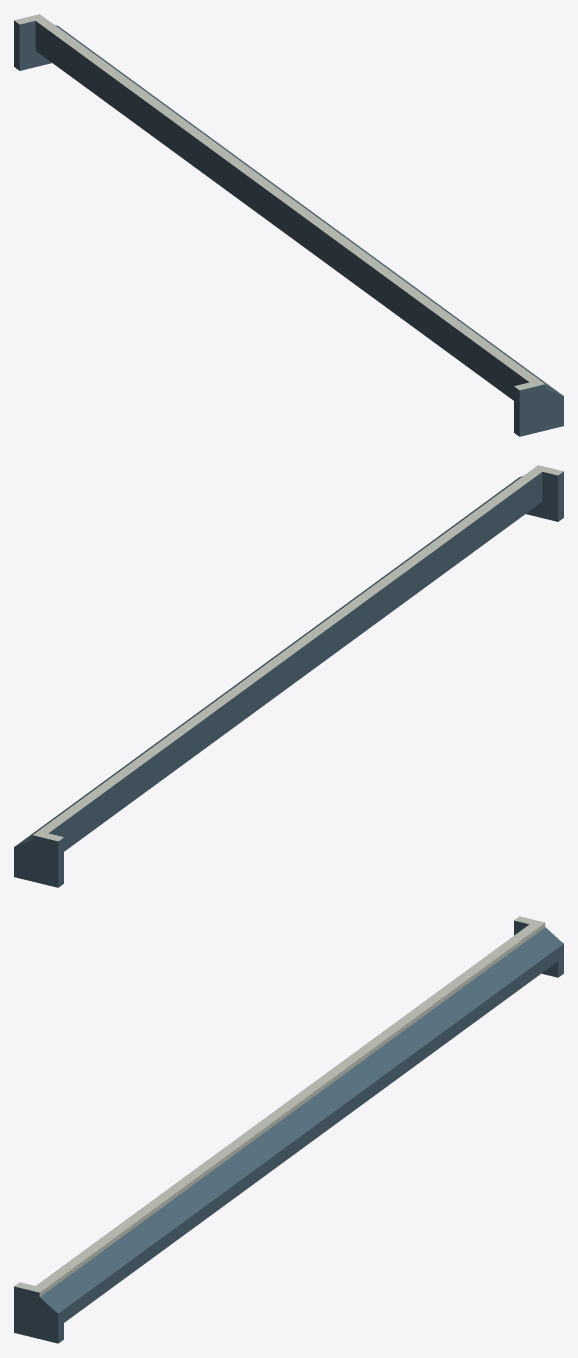
Rendered from d03_apartment_family_11.glb.
3 renders of one model, top to bottom at view 1: azimuth 30°, elevation 25°; view 2: azimuth 150°, elevation 25°; view 3: azimuth 330°, elevation 25°, orthographic.
Parts seen in each view (by area): view 1: D03ApartmentFamily11_Mesh; view 2: D03ApartmentFamily11_Mesh; view 3: D03ApartmentFamily11_Mesh.
Boxes of the visible parts, x1,y1,x2,y2 form: D03ApartmentFamily11_Mesh: (14, 14, 563, 436); D03ApartmentFamily11_Mesh: (14, 465, 563, 887); D03ApartmentFamily11_Mesh: (14, 916, 563, 1343).
Bounding box in the file's own units: 0.62 × 0.62 × 12.24.
